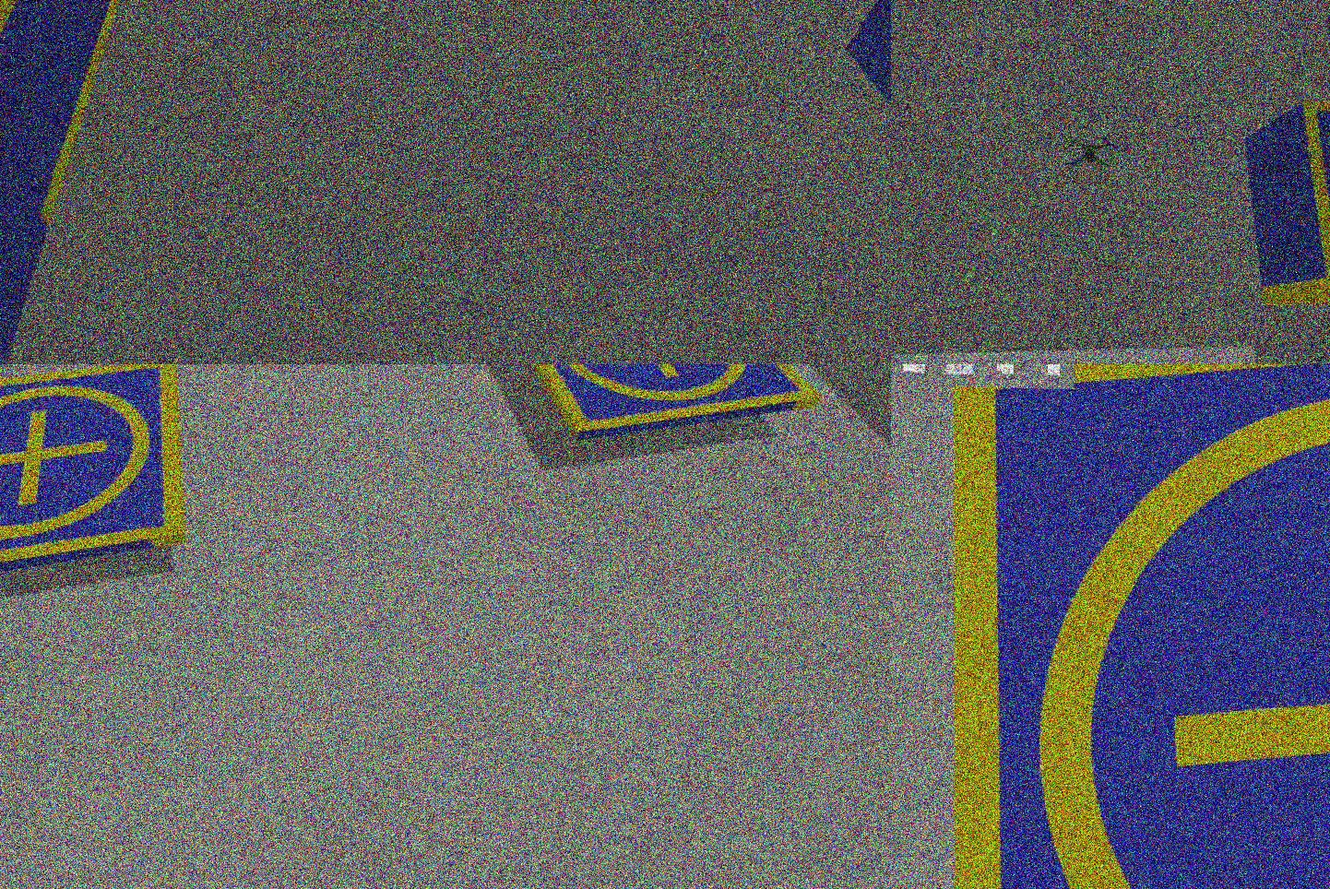large_base: (1, 1, 145, 365)
small_base: (944, 365, 1330, 889), (1, 365, 185, 590), (493, 365, 826, 447)
